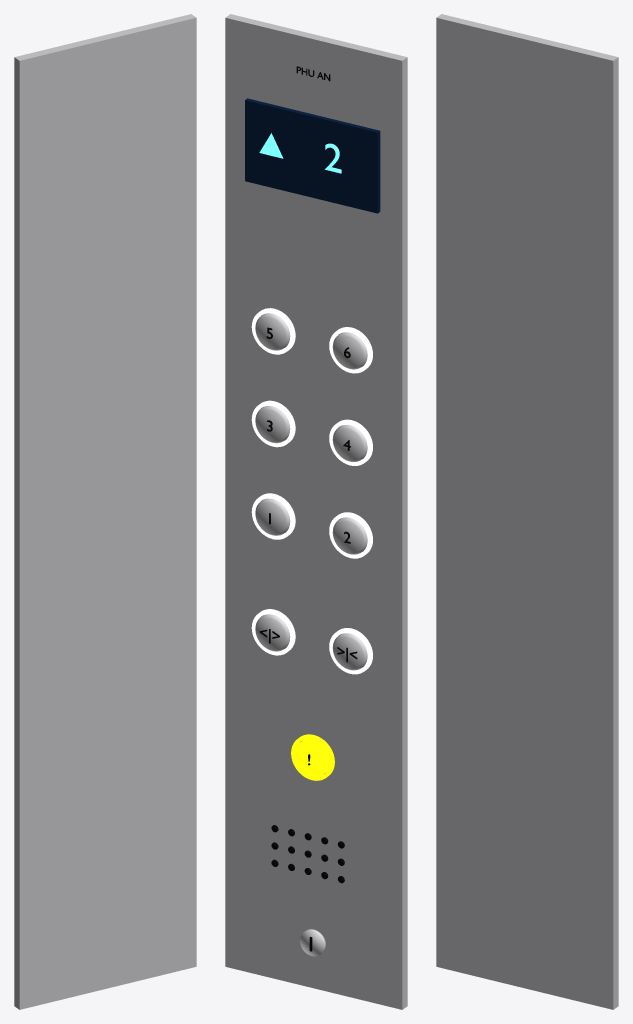
The model's file is cop_inox-blue.glb.
3 renders of one model, left to right at view 1: azimuth 30°, elevation 25°; view 2: azimuth 150°, elevation 25°; view 3: azimuth 330°, elevation 25°, orthographic.
Parts seen in each view (by area): view 1: COP_Plate; view 2: COP_Plate, COP_Display, COP_Btn_Alarm_Cap, COP_Btn_1_Cap, COP_Btn_5_Cap, COP_Btn_4_Cap, COP_Btn_6_Cap, COP_Btn_2_Cap, COP_Btn_3_Cap, COP_Btn_Close_Cap, COP_Btn_Open_Cap, COP_Btn_5_Ring (+9 smaller); view 3: COP_Plate.
Boxes of the visible parts, box(x1,y1,x2,y2) form: COP_Plate: box(14, 14, 196, 1009); COP_Plate: box(225, 14, 407, 1009); COP_Display: box(245, 98, 380, 213); COP_Btn_Alarm_Cap: box(294, 739, 329, 776); COP_Btn_1_Cap: box(255, 498, 290, 535); COP_Btn_5_Cap: box(255, 313, 290, 350); COP_Btn_4_Cap: box(332, 425, 367, 461); COP_Btn_6_Cap: box(332, 332, 367, 369); COP_Btn_2_Cap: box(332, 517, 367, 554); COP_Btn_3_Cap: box(255, 406, 290, 443); COP_Btn_Close_Cap: box(332, 633, 367, 670); COP_Btn_Open_Cap: box(255, 614, 290, 651); COP_Btn_5_Ring: box(251, 308, 295, 354); COP_Plate: box(436, 14, 618, 1009).
Bounding box in the file's own units: 0.16 × 0.82 × 0.0159.
